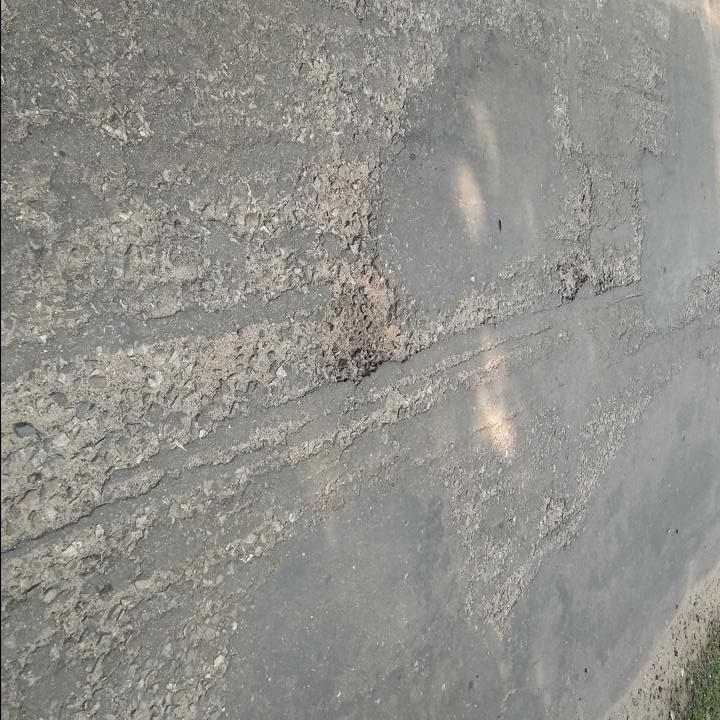pothole: (319, 255, 406, 386), (552, 259, 590, 303)
